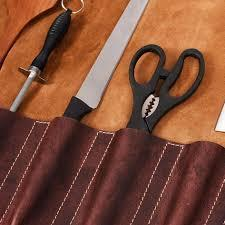Knife: (66, 0, 140, 125)
